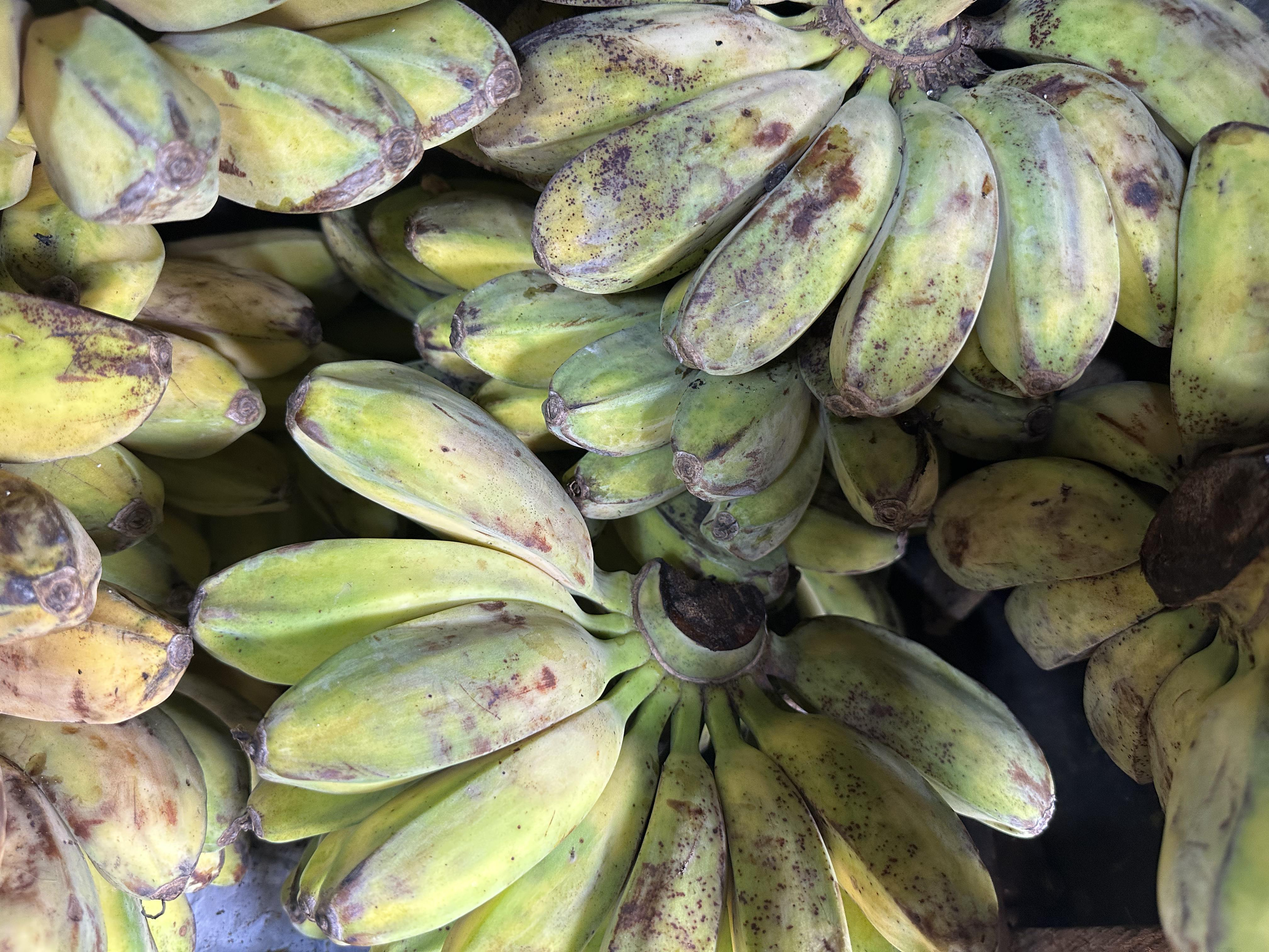underripe: (189, 361, 1054, 952), (474, 0, 1269, 416), (404, 190, 1051, 561), (927, 382, 1269, 949), (0, 179, 354, 609), (0, 0, 520, 224), (0, 674, 261, 952)
